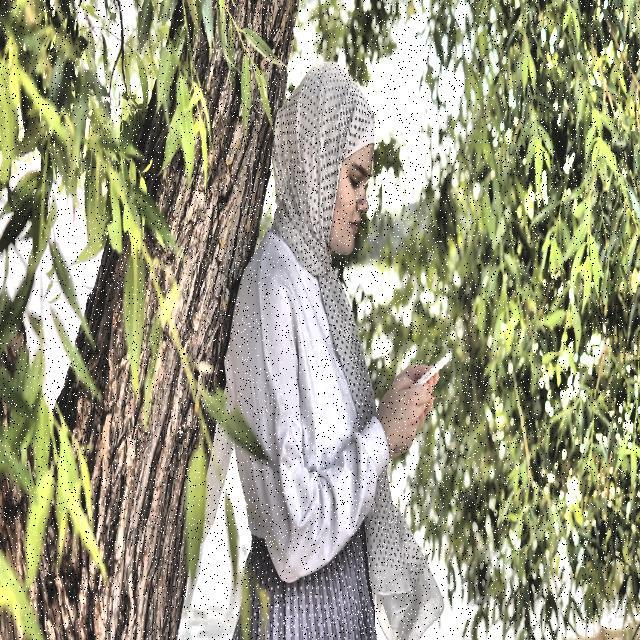Phone: (413, 342, 452, 397)
